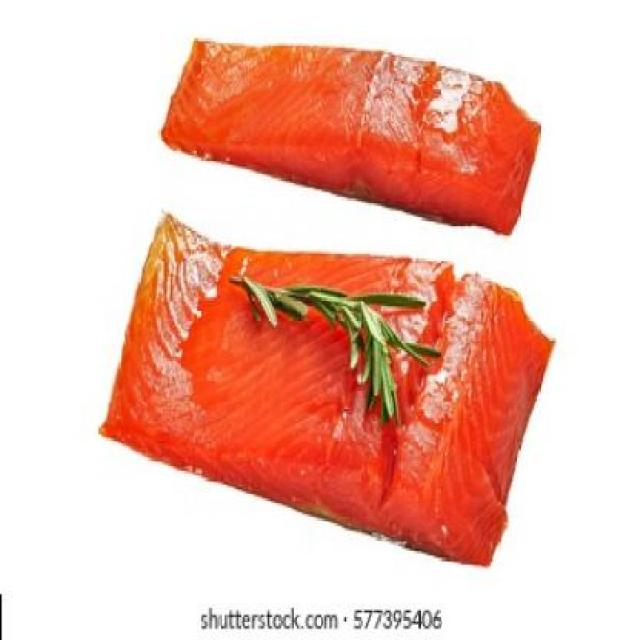salmon: (103, 205, 569, 577), (151, 9, 561, 240)
